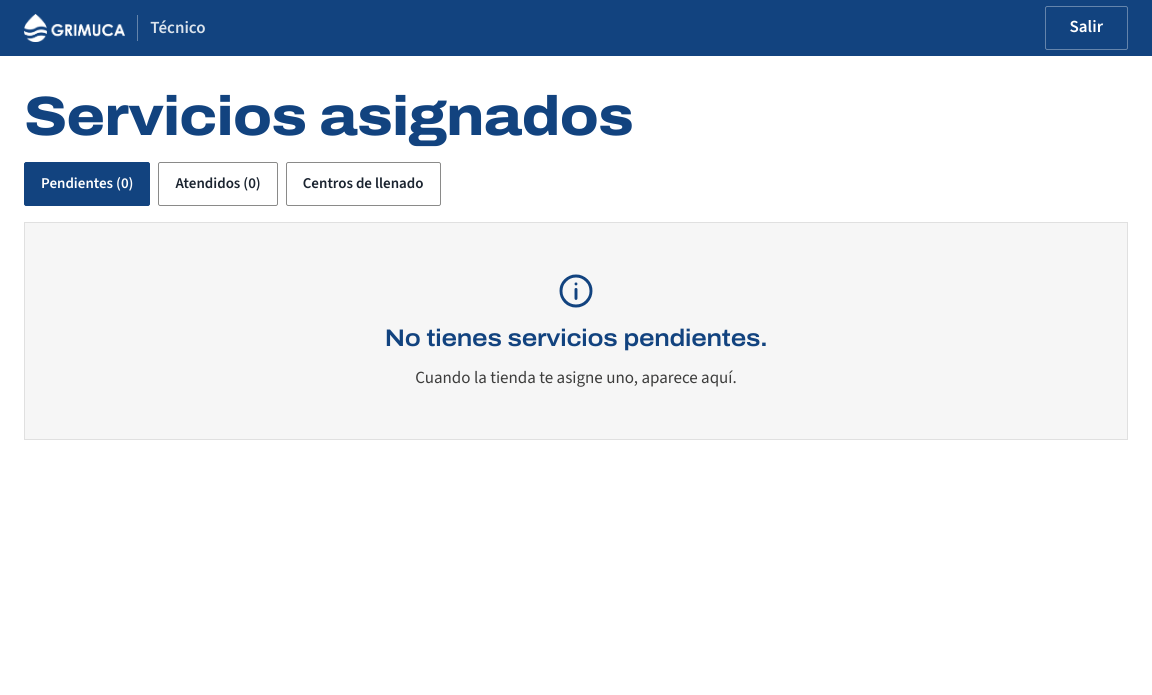
Test: /tecnico · centros de llenado › anota el frasco pendiente y muestra el mensaje si ya estaba anotado
Click the button "Centros de llenado". click: (363, 184)
box: [286,162,440,206]
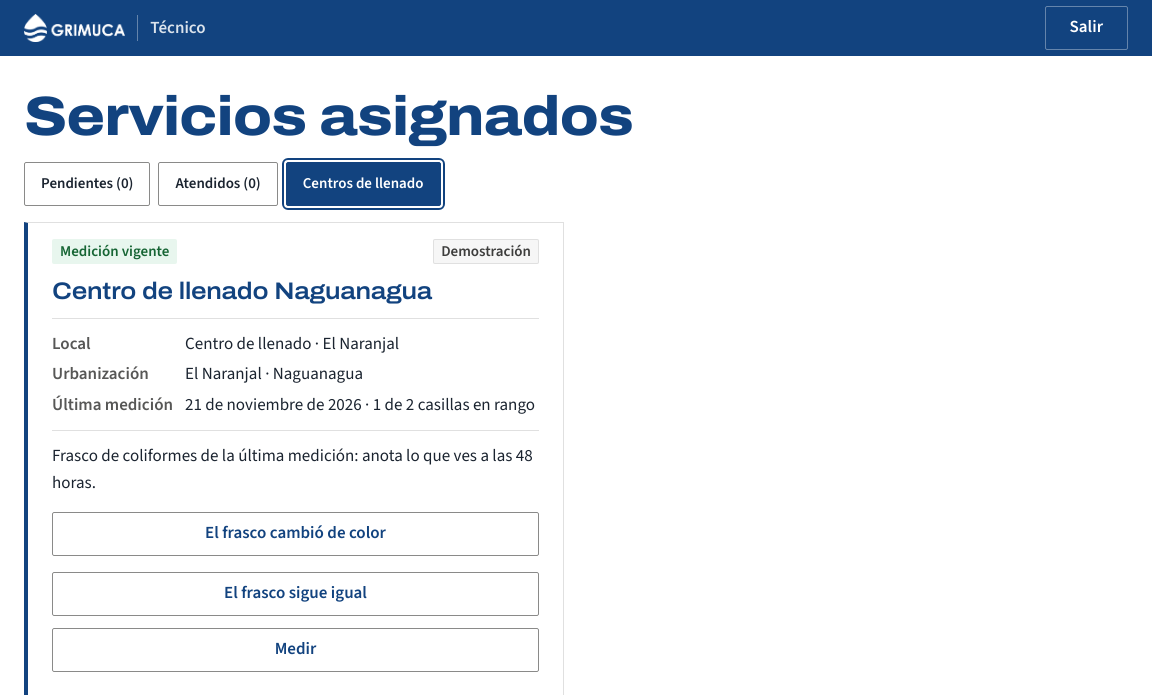
Click the button "El frasco sigue igual". click: (296, 594)
box: [52,572,539,616]
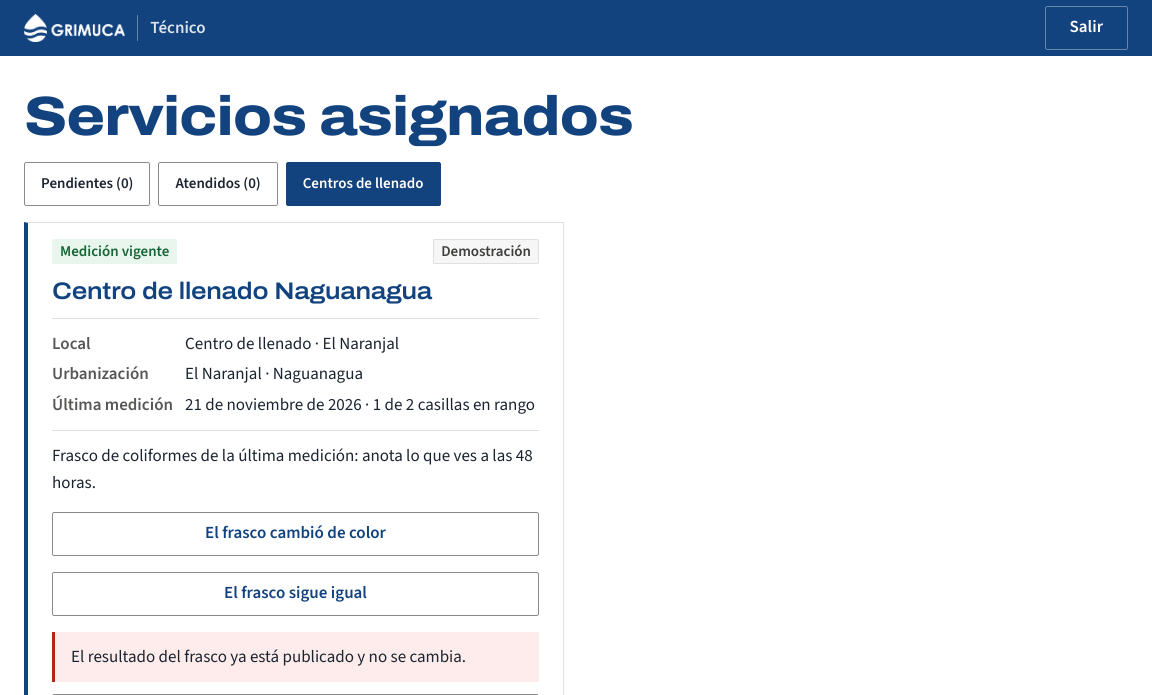
Now the text "El resultado del frasco ya está publicado y no se cambia." is shown, box [71,644,523,670]
Click the button "El frasco sigue igual". click: (296, 594)
box: [52,572,539,616]
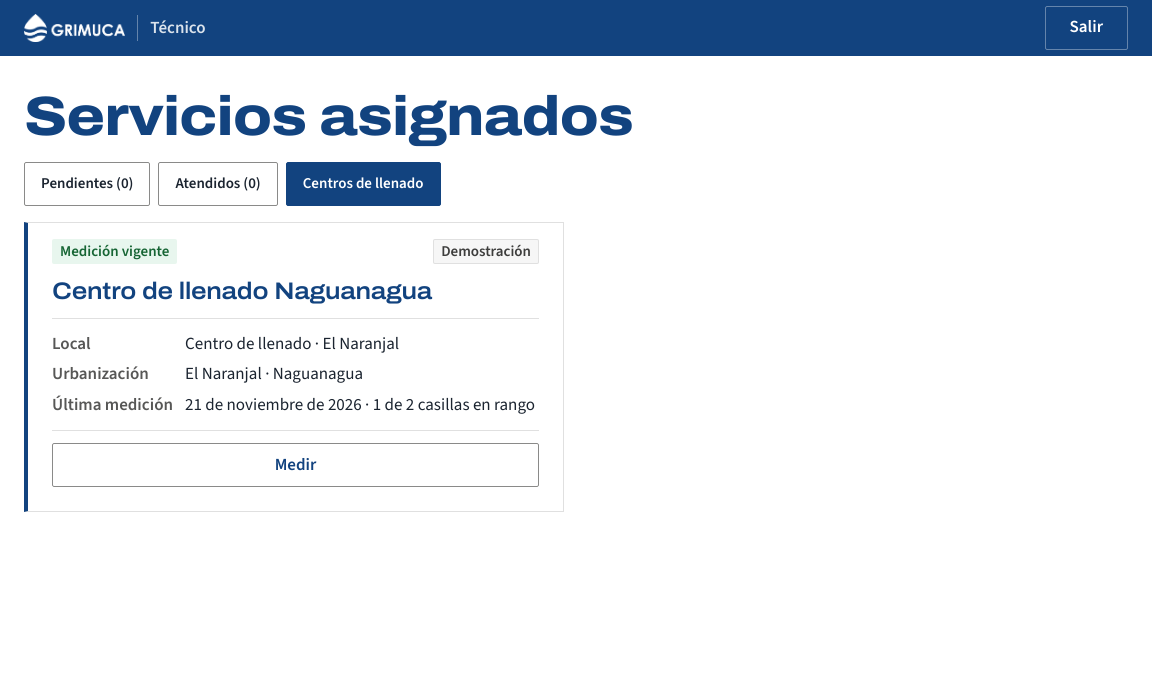
Now the text "Medición vigente" is shown, box [52,239,177,264]
Now the button "El frasco sigue igual" is gone
